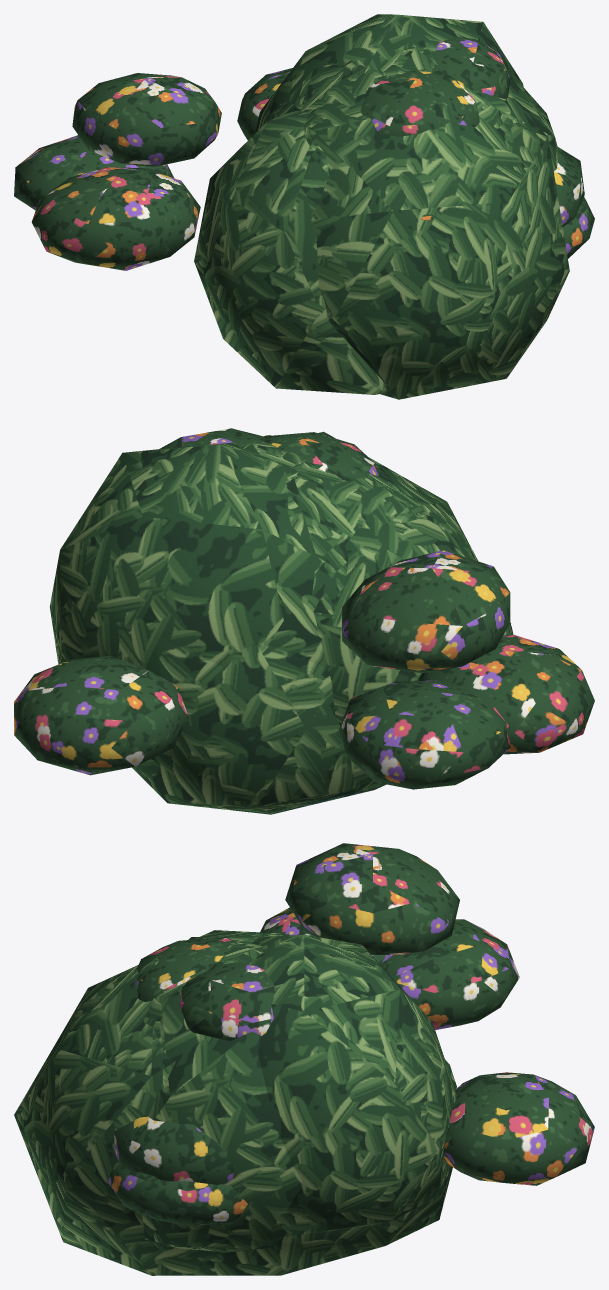
The model's file is bush_b.glb.
The picture shows the model from 3 angles, top to bottom: view 1: azimuth 30°, elevation 25°; view 2: azimuth 150°, elevation 25°; view 3: azimuth 270°, elevation 25°; orthographic projection. The views are drawn at different scales.
Visible parts, largest first — view 1: Bush; view 2: Bush; view 3: Bush.
Boxes of the visible parts, bbox=[...] form: Bush: bbox=[14, 14, 594, 399]; Bush: bbox=[14, 428, 594, 814]; Bush: bbox=[14, 843, 594, 1275].
Bounding box in the file's own units: 1.66 × 0.971 × 1.63.
3 materials, 3 textured.
